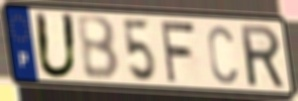5: (120, 16, 158, 83)
B: (74, 14, 122, 83)
C: (206, 22, 239, 86)
F: (158, 19, 197, 85)
R: (238, 23, 288, 91)
U: (32, 9, 80, 81)
